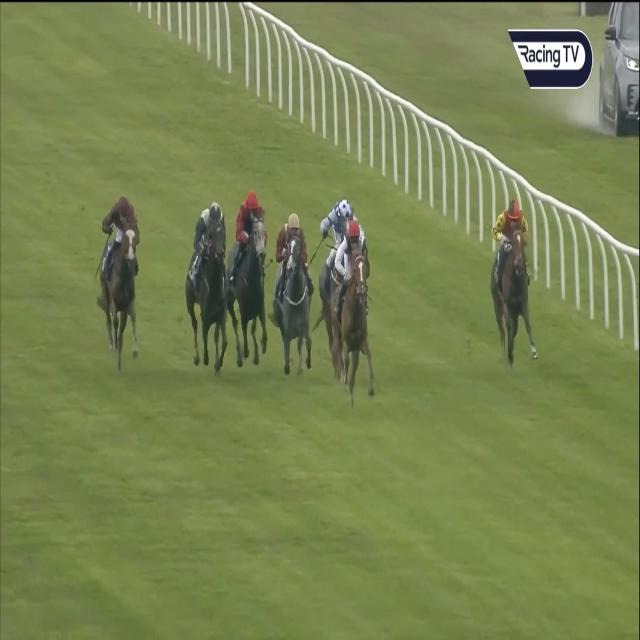horses-racing: (317, 220, 371, 406), (488, 196, 539, 364), (101, 198, 149, 351), (271, 210, 314, 375), (228, 188, 266, 365), (189, 198, 228, 366), (322, 190, 374, 284)
